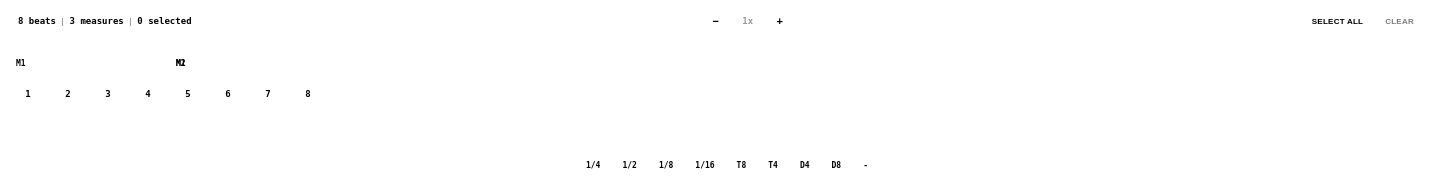
Scenario: BeatSubdivisionGrid › Selection Interactions - Single Click › selects a single beat on click
The width and height of the screenshot is (1431, 186).
Note: Click beat 3 (index 2)
Click the button "3" at x=108, y=94, box [105, 89, 111, 99]
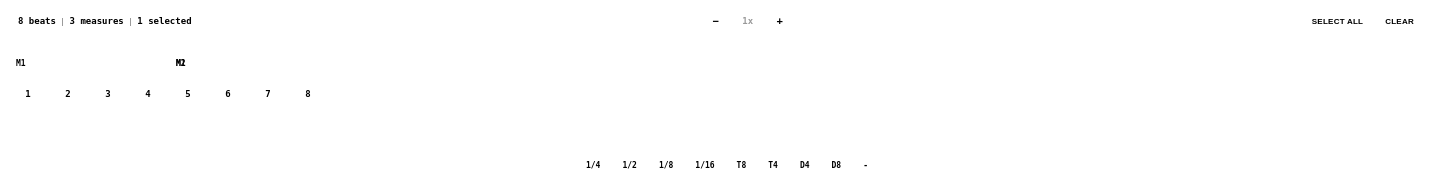
Expected: the text "1 selected" is shown, [137, 16, 192, 26]
